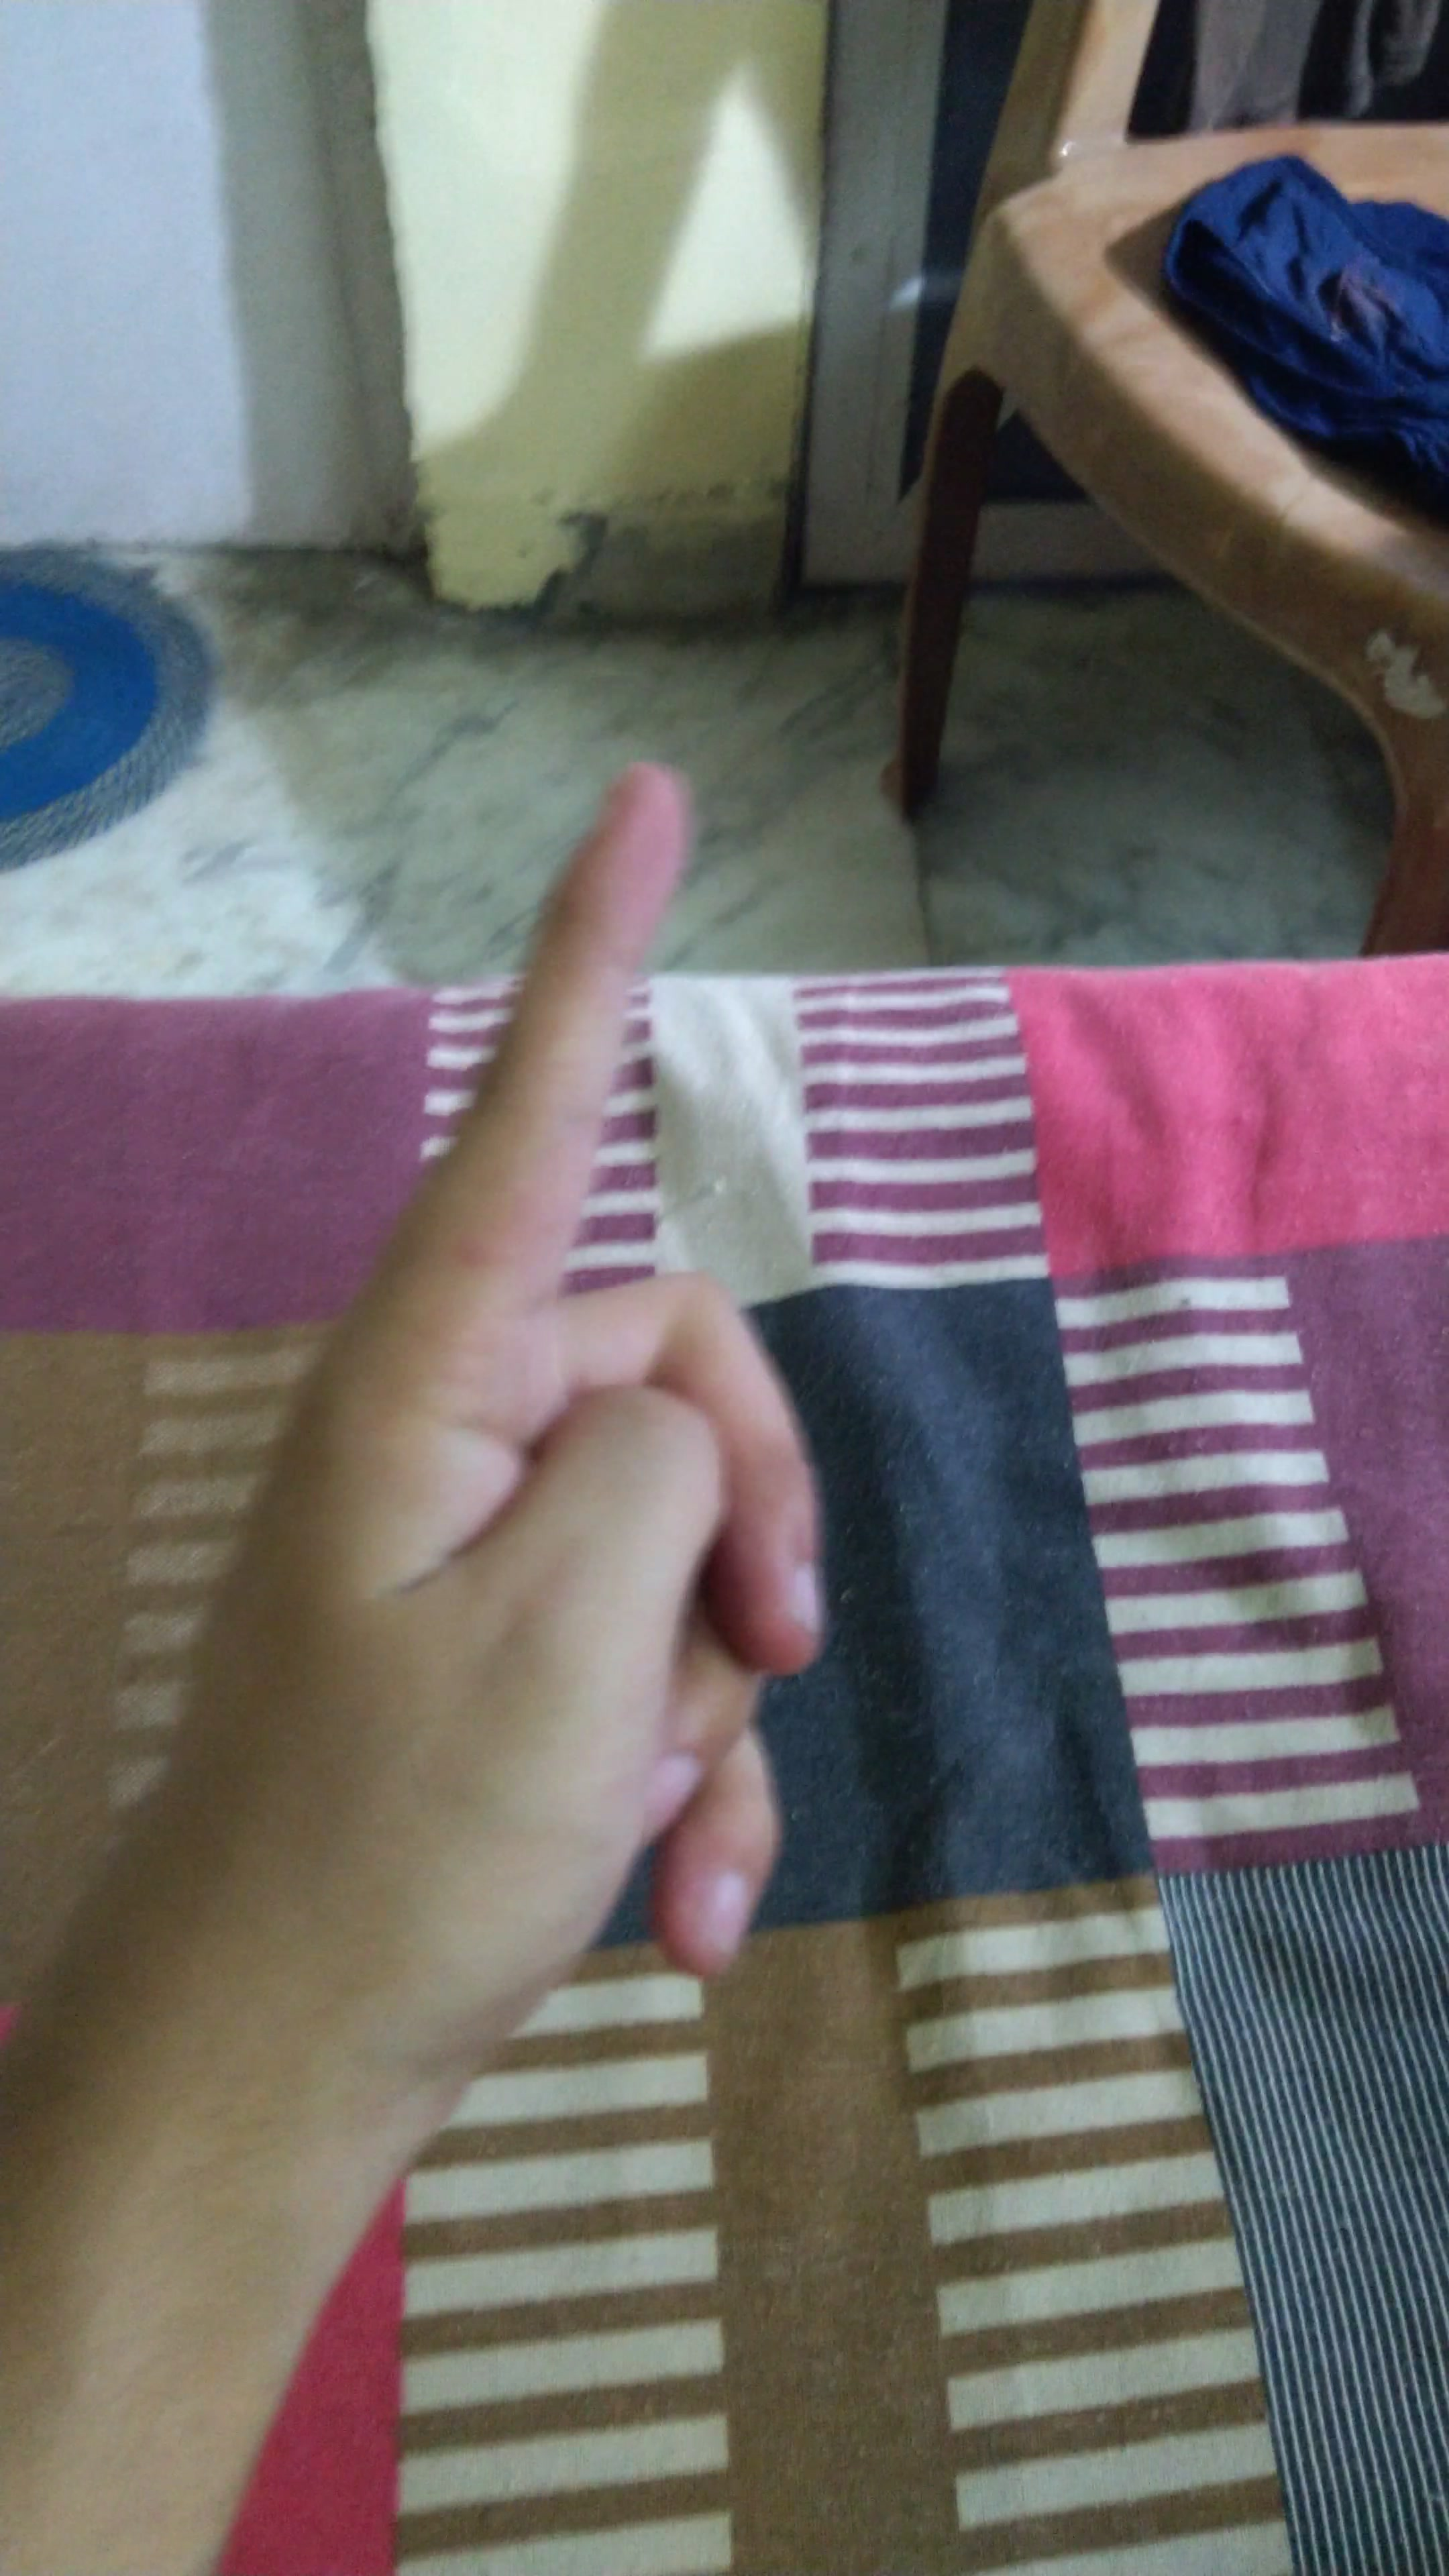hand: (150, 748, 918, 2051)
